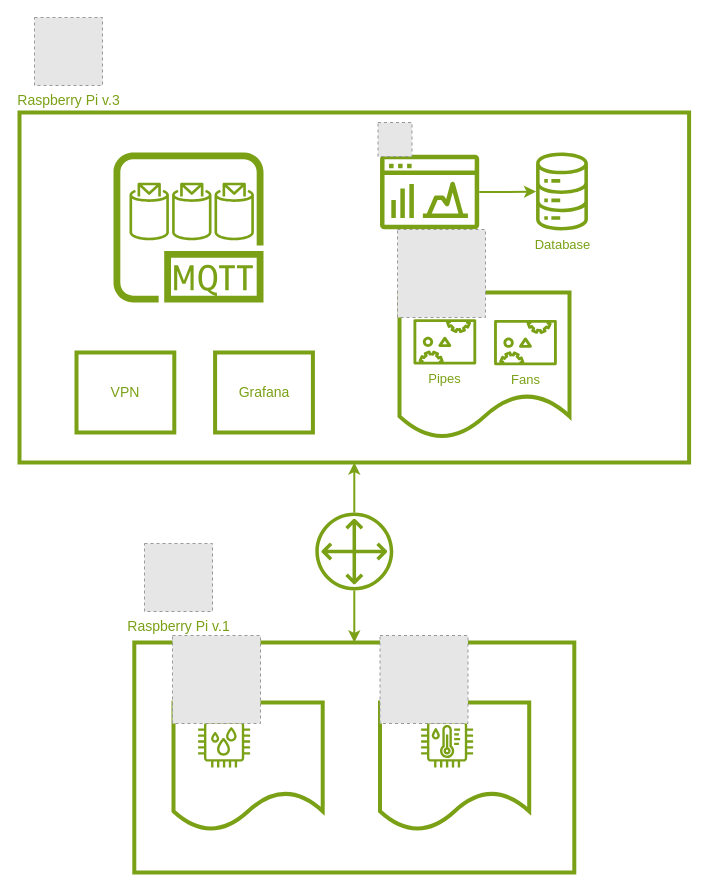
Image size: 708x892. Some labels were removed from this diagram. Grey dashed boxes stand in for pictures. Here are the shapes that lost their labels. From the top down, the centre of each, then its label:
the point at 429,191: Web server
the point at 354,551: Router
the point at 224,741: Wood moisture sensor
the point at 447,741: Temp/moisture sensor
